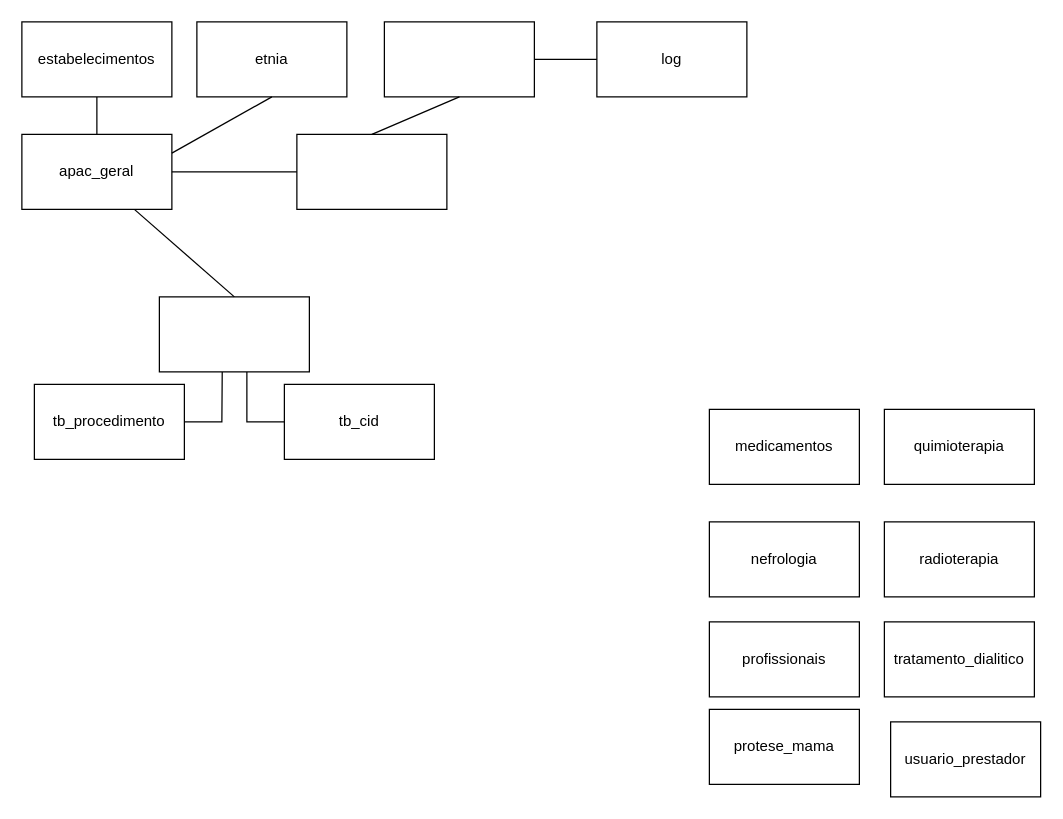
Some shapes in this 1063 by 819 pixel diagram are drawn without their labels. Each missing label, with the centre of its shape:
"exames" goes at (x=371, y=171).
"rl_procedimento_cid" goes at (x=233, y=334).
"Usuario" goes at (x=458, y=59).
